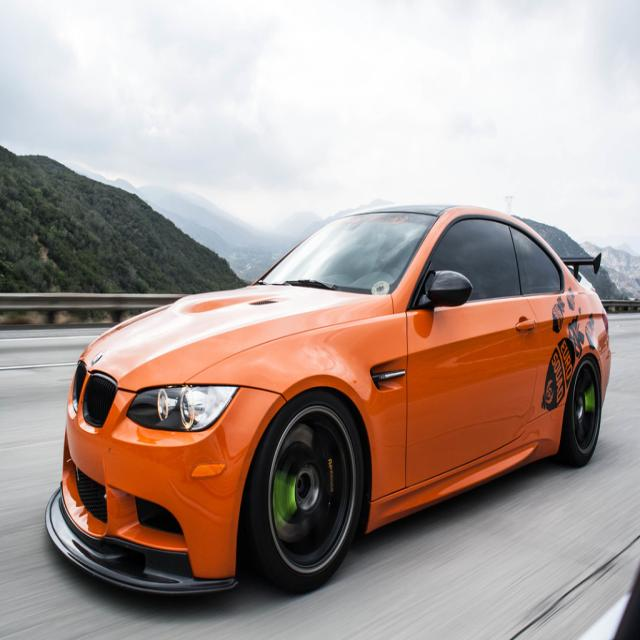car: (43, 200, 610, 593)
